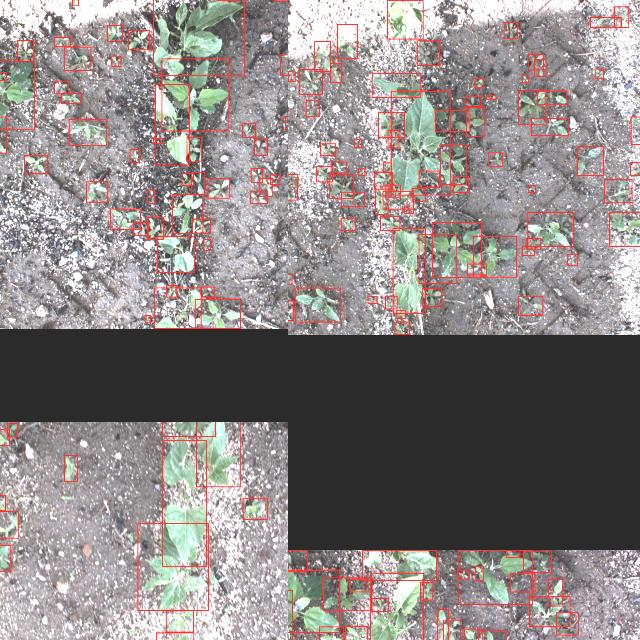crop: (152, 0, 243, 75), (390, 91, 450, 195), (136, 524, 208, 610), (162, 440, 206, 566), (369, 573, 422, 640), (195, 422, 240, 486), (392, 228, 424, 314), (154, 84, 188, 164), (362, 550, 436, 580), (154, 288, 200, 328), (156, 236, 194, 272), (386, 0, 422, 38), (372, 73, 421, 97), (161, 422, 214, 436), (155, 633, 192, 640)
weed: (162, 59, 228, 131), (457, 550, 531, 604), (288, 569, 338, 632), (432, 222, 481, 278), (0, 61, 33, 129), (418, 234, 456, 284), (472, 236, 516, 278), (322, 578, 372, 610), (294, 288, 340, 322), (528, 212, 572, 246), (194, 299, 240, 329), (528, 596, 570, 626), (172, 194, 202, 233), (609, 213, 640, 247), (440, 144, 466, 184), (68, 119, 105, 145), (517, 90, 545, 124), (576, 147, 602, 176), (434, 110, 470, 130), (530, 118, 568, 136), (337, 24, 357, 58), (378, 112, 404, 138), (110, 208, 140, 230), (64, 46, 90, 70), (298, 68, 322, 94), (604, 180, 632, 202), (523, 550, 551, 572), (416, 40, 439, 66), (165, 610, 192, 632), (329, 174, 353, 198), (242, 498, 268, 520), (382, 191, 413, 209), (465, 106, 483, 136), (556, 612, 578, 634), (314, 41, 330, 71), (518, 296, 542, 316), (0, 511, 17, 538), (207, 178, 229, 198), (85, 182, 107, 202), (510, 573, 534, 591), (128, 30, 148, 50), (288, 549, 307, 570), (24, 155, 46, 173), (374, 186, 388, 214), (538, 91, 566, 105), (548, 578, 562, 606), (186, 136, 200, 162), (421, 289, 441, 307), (147, 217, 163, 239), (436, 609, 447, 640), (442, 620, 459, 640), (319, 626, 343, 640), (341, 192, 364, 206), (17, 40, 33, 60), (418, 171, 438, 187), (64, 455, 76, 481), (614, 6, 628, 28), (345, 626, 367, 640), (373, 172, 392, 188), (590, 17, 620, 27), (190, 172, 203, 194), (379, 216, 399, 230), (630, 116, 640, 144), (477, 630, 505, 640), (0, 544, 10, 571), (106, 25, 122, 41), (452, 176, 468, 192), (316, 166, 332, 182), (192, 219, 210, 233), (288, 174, 297, 199), (503, 22, 517, 38), (528, 54, 542, 70), (371, 598, 387, 612), (349, 578, 365, 592), (259, 178, 271, 196), (464, 628, 482, 640), (419, 582, 431, 600), (132, 222, 148, 235), (384, 185, 400, 198), (534, 59, 546, 76), (60, 93, 80, 103), (466, 264, 486, 274), (54, 80, 68, 94), (411, 188, 425, 202), (488, 152, 502, 166), (250, 192, 266, 204), (254, 139, 266, 155), (306, 100, 318, 116), (0, 117, 5, 153), (330, 64, 340, 82), (388, 130, 398, 148), (242, 123, 254, 137), (250, 168, 262, 182), (280, 54, 288, 75), (320, 144, 334, 156), (340, 218, 354, 230), (394, 322, 408, 334), (384, 296, 396, 310), (526, 238, 540, 250), (54, 37, 70, 47), (330, 162, 346, 172), (466, 95, 480, 106), (181, 173, 193, 185), (629, 162, 640, 175), (166, 285, 177, 297), (200, 287, 213, 297), (0, 429, 8, 445), (129, 150, 139, 162), (567, 254, 577, 266), (7, 424, 17, 436), (146, 190, 154, 204), (474, 566, 482, 580), (521, 247, 533, 256), (269, 175, 279, 185), (474, 78, 484, 88), (457, 570, 468, 578), (505, 550, 519, 556), (112, 56, 120, 66), (202, 240, 210, 250), (288, 301, 292, 321), (382, 163, 390, 173), (594, 68, 602, 78), (0, 495, 5, 510), (403, 206, 412, 214), (368, 296, 377, 304), (396, 310, 404, 318), (153, 138, 163, 144), (288, 71, 294, 81), (354, 139, 361, 147), (358, 168, 364, 176), (522, 74, 528, 82), (528, 185, 534, 192), (0, 72, 5, 80), (485, 95, 495, 99), (285, 116, 288, 129), (144, 316, 150, 322), (72, 0, 78, 5)
